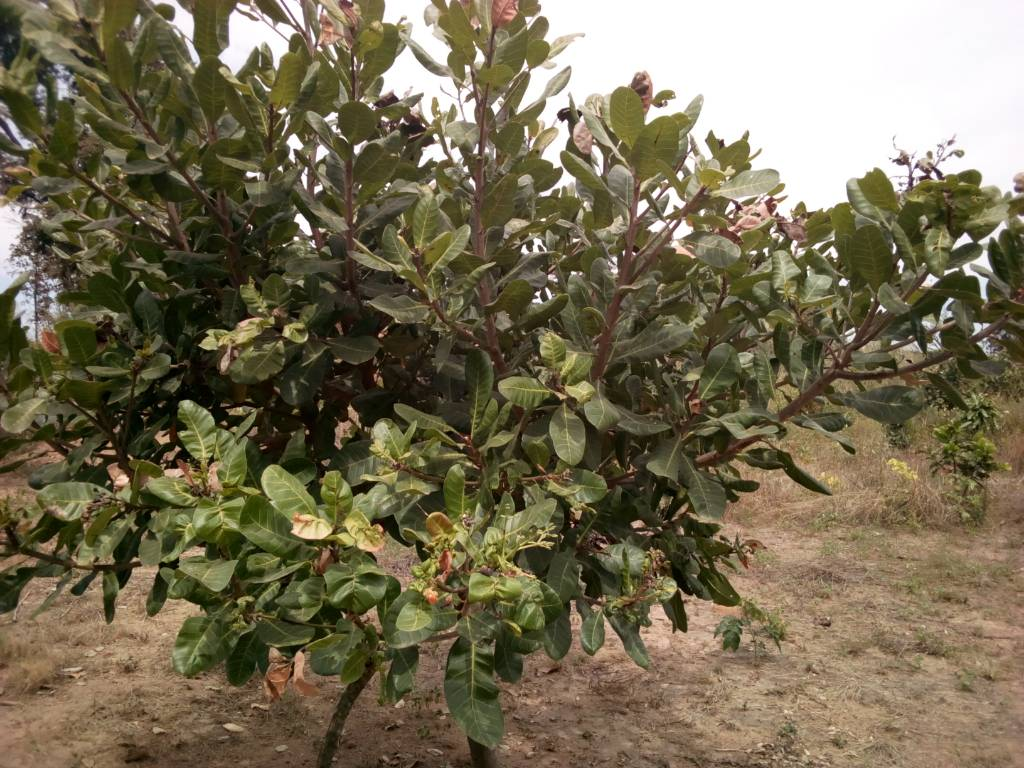Helopeltis anacardii: (172, 599, 246, 677), (322, 555, 383, 613), (460, 550, 524, 604), (909, 179, 986, 214), (39, 483, 116, 516), (343, 509, 388, 557), (365, 293, 430, 318), (565, 378, 596, 401)
